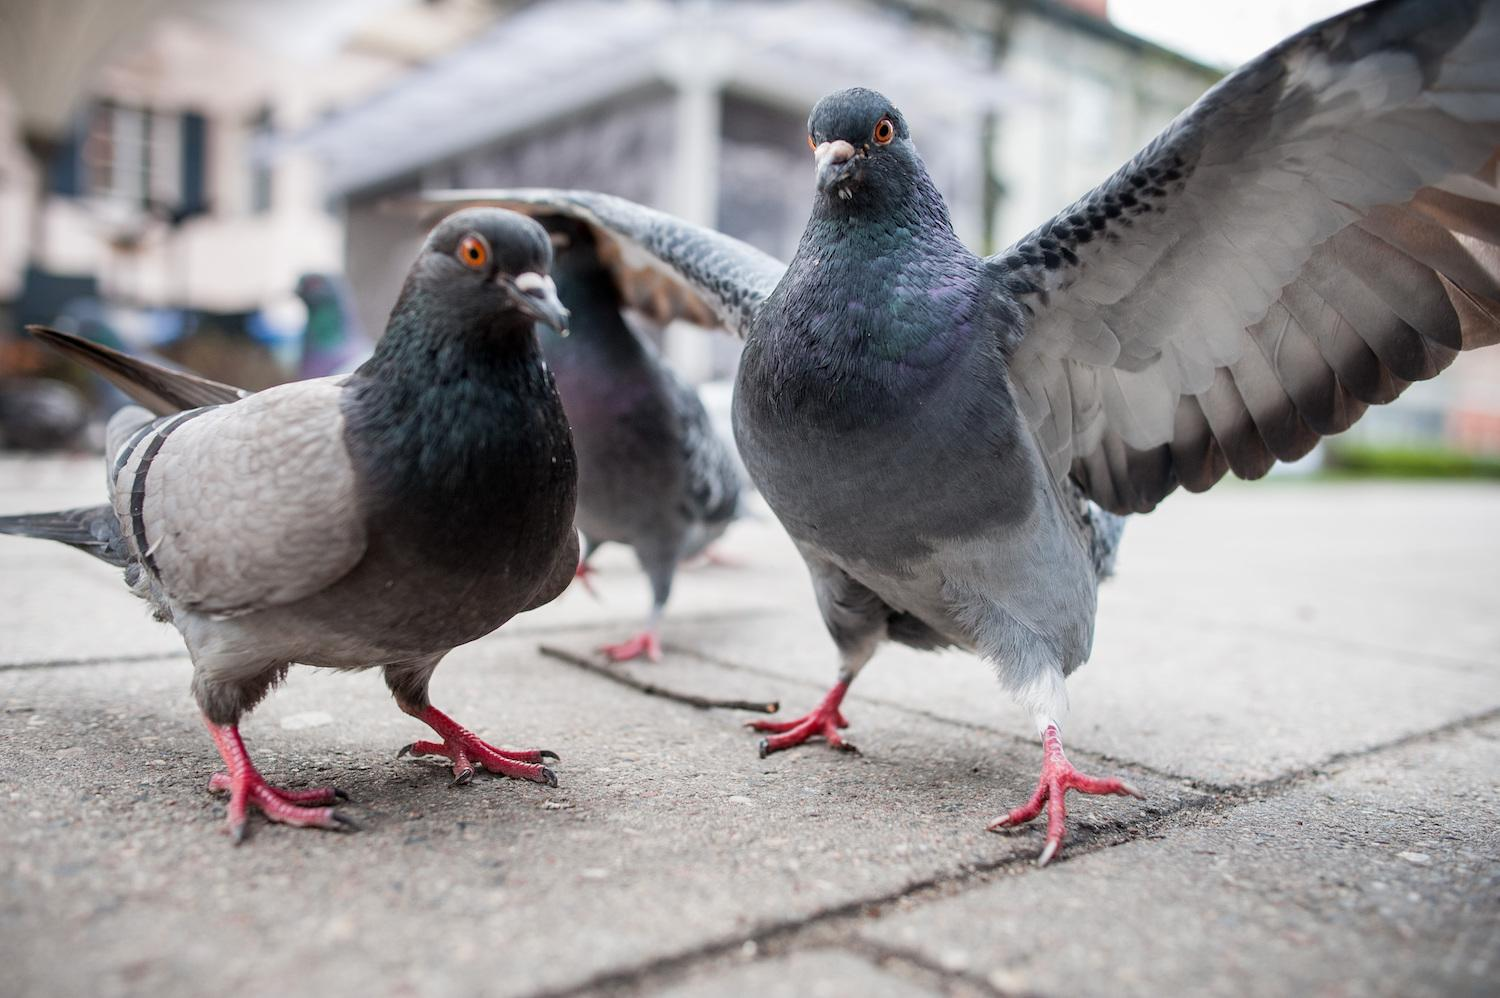Flying Rat: (766, 98, 1491, 852), (16, 219, 546, 877), (553, 207, 741, 707)
